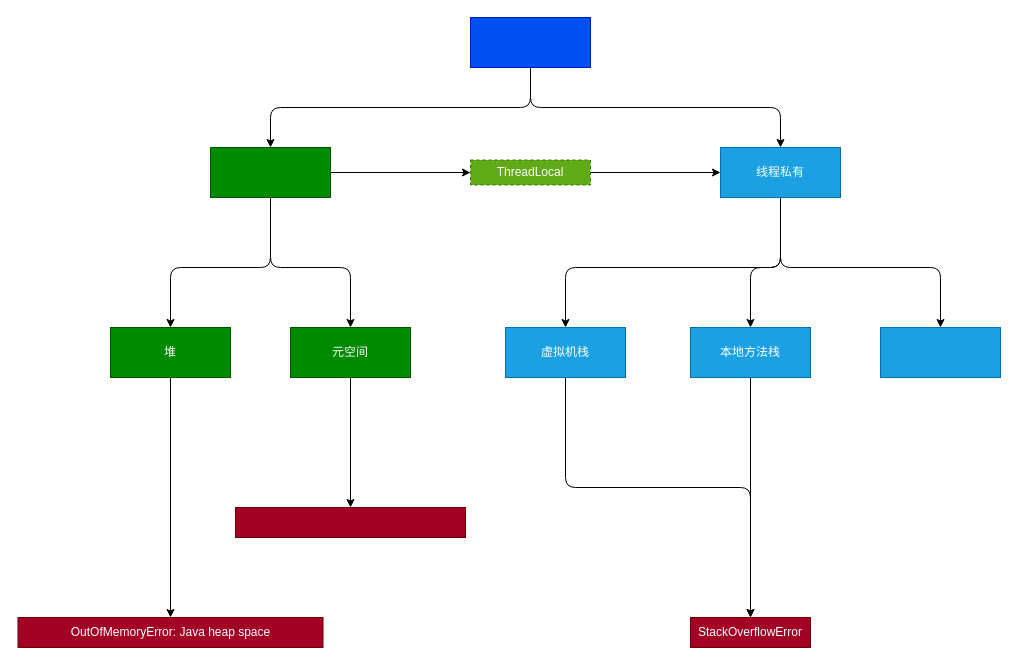
Some shapes in this 1018 by 665 pixel diagram are drawn without their labels. Here are the shapes that lost their labels. From the top down, the centre of each, then its label:
point (530, 42): 内存区域
point (270, 172): 线程共享
point (940, 352): 程序计数器
point (350, 522): OutOfMemoryError: Metaspace
